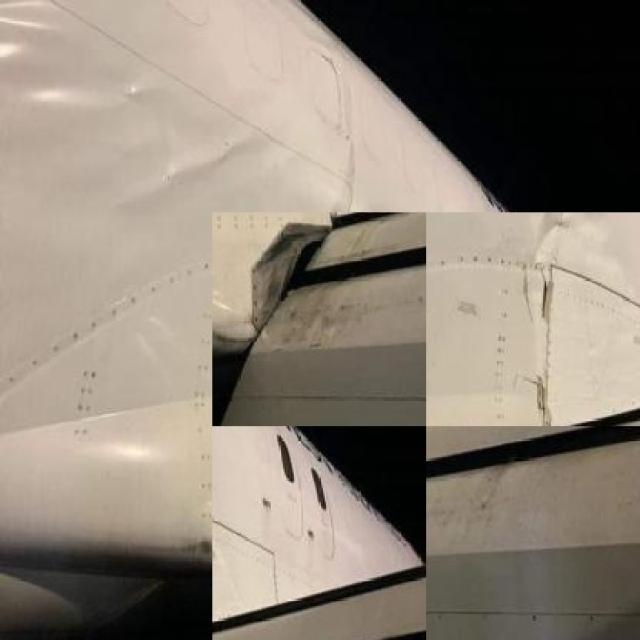dent: (136, 114, 275, 194), (526, 216, 568, 312), (3, 3, 71, 57), (95, 424, 174, 461)
